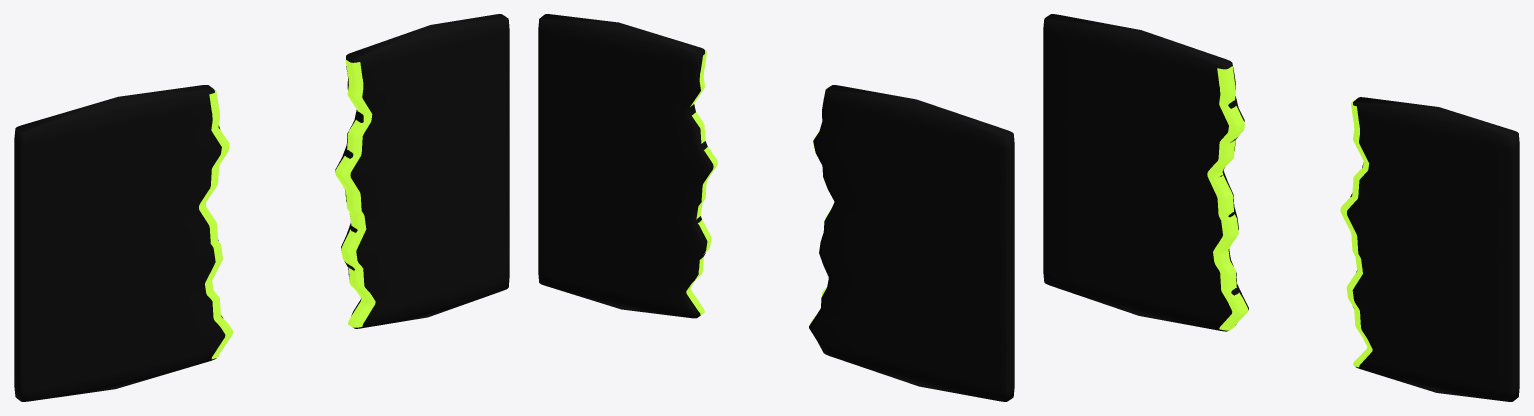
3 views of the same model, side by side, from view 1: azimuth 30°, elevation 25°; view 2: azimuth 150°, elevation 25°; view 3: azimuth 330°, elevation 25° (orthographic).
Parts seen in each view (by area): view 1: hidari, migi, migi_suji, hidari_suji; view 2: hidari, migi, migi_suji; view 3: hidari, migi, hidari_suji, migi_suji.
Part boxes in pixels (<box>): hidari: <box>14,85,225,401</box>; migi: <box>335,14,509,328</box>; migi_suji: <box>335,59,375,327</box>; hidari_suji: <box>199,87,233,359</box>; hidari: <box>809,85,1014,401</box>; migi: <box>538,14,713,318</box>; migi_suji: <box>686,50,717,315</box>; hidari: <box>1043,14,1248,331</box>; migi: <box>1347,97,1519,401</box>; hidari_suji: <box>1207,66,1248,330</box>; migi_suji: <box>1340,100,1372,367</box>.
Size of the model in its own units: 2 by 1.15 by 0.1292.
